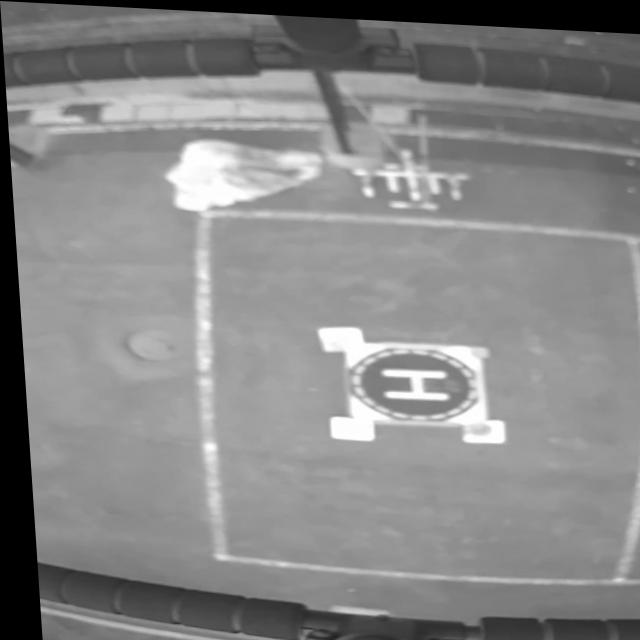Helipad: (376, 363, 447, 395)
